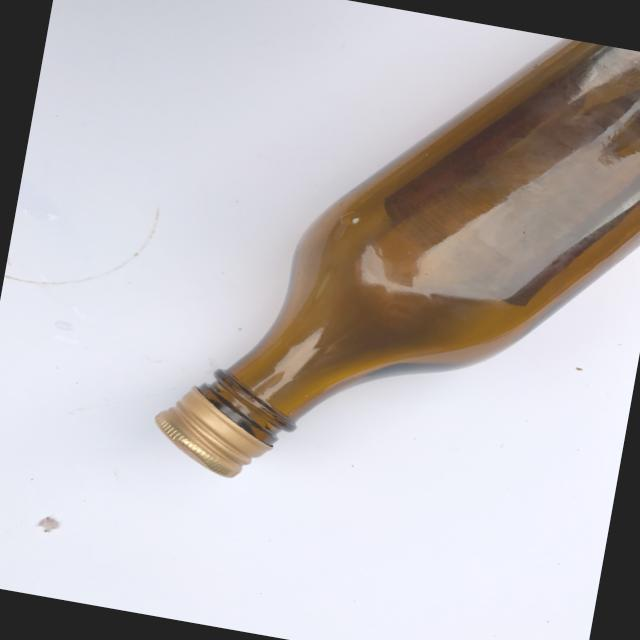Glass: (134, 0, 640, 548)
